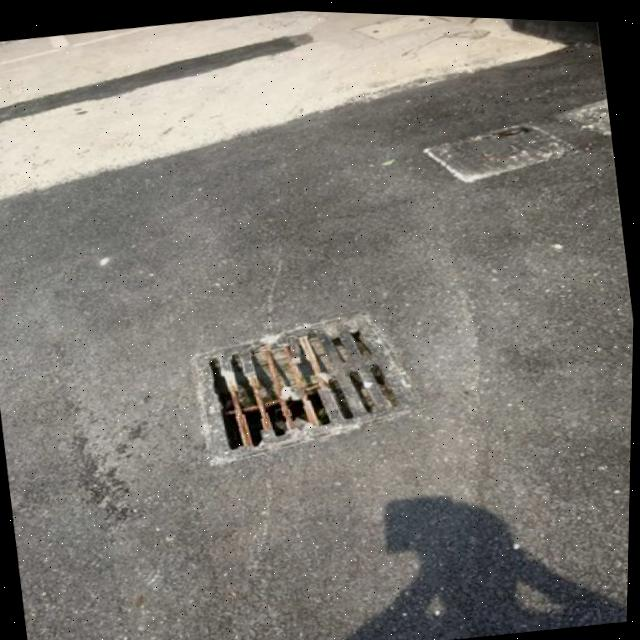manhole: (165, 302, 443, 463)
